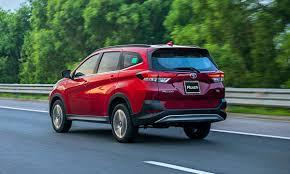toyota: (187, 72, 199, 79)
